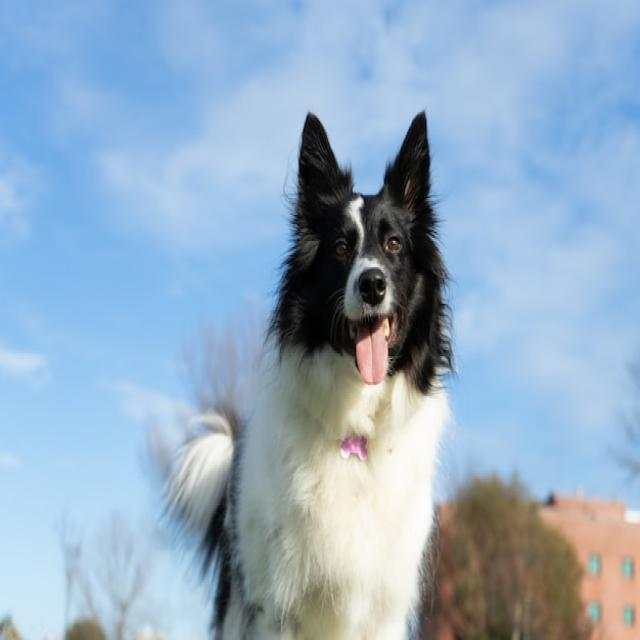Dog: (160, 111, 452, 640)
